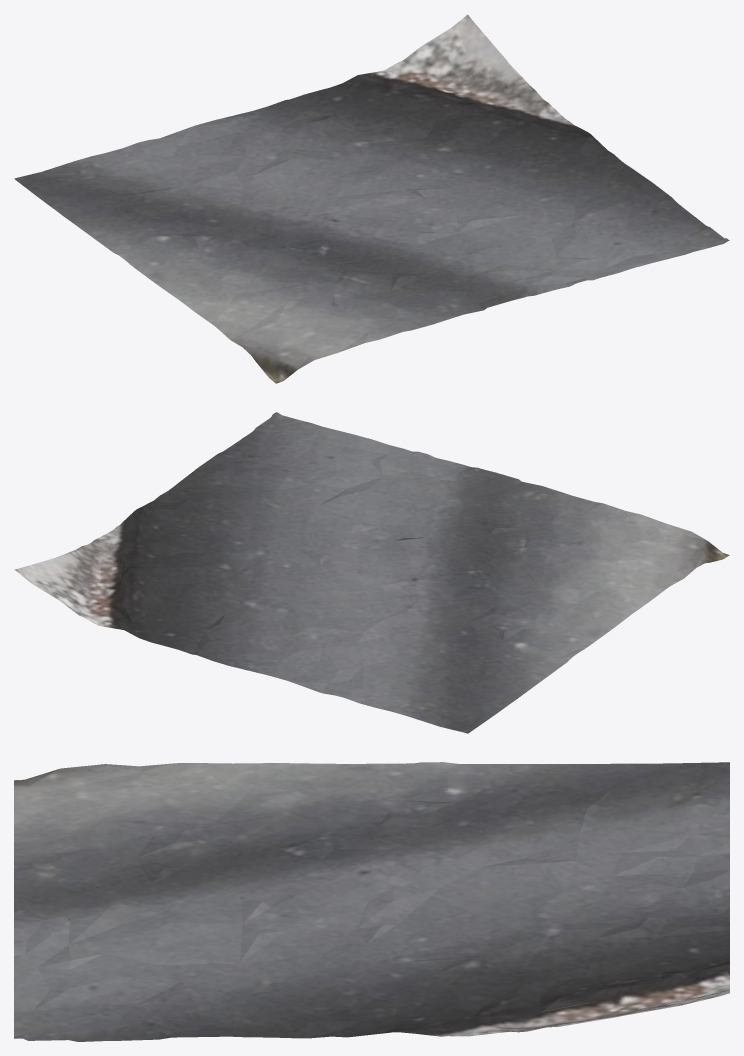
3 renders of one model, top to bottom at view 1: azimuth 30°, elevation 25°; view 2: azimuth 150°, elevation 25°; view 3: azimuth 270°, elevation 25°, orthographic. The views are drawn at different scales.
Size of the model in its own units: 2.95 by 0.4155 by 2.95.
3 materials, 3 textured.
